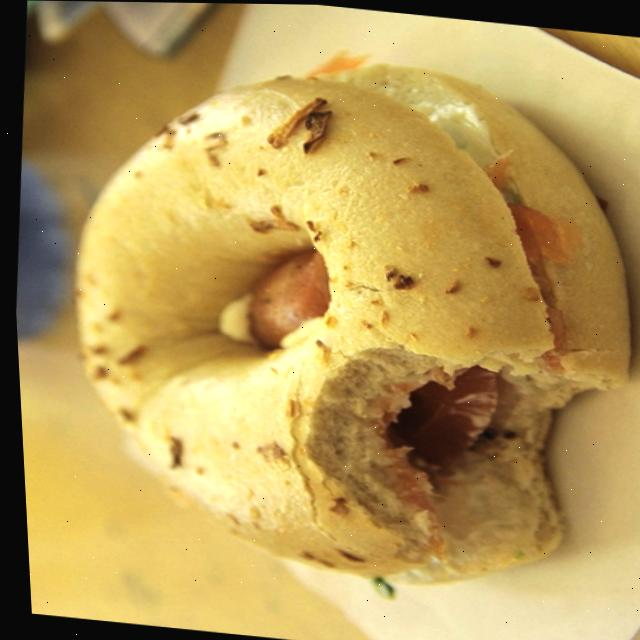面包点心: (6, 17, 640, 630)
